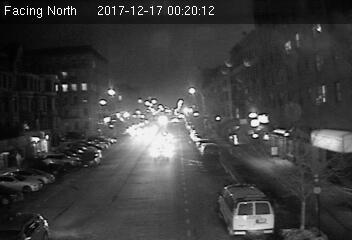police: (217, 179, 279, 240)
